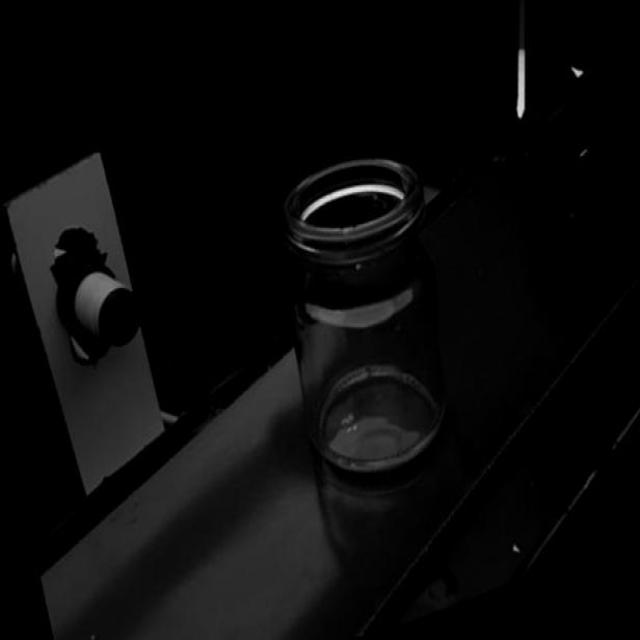defect: (331, 212, 361, 249), (350, 256, 364, 274)
glass: (247, 121, 480, 504)
